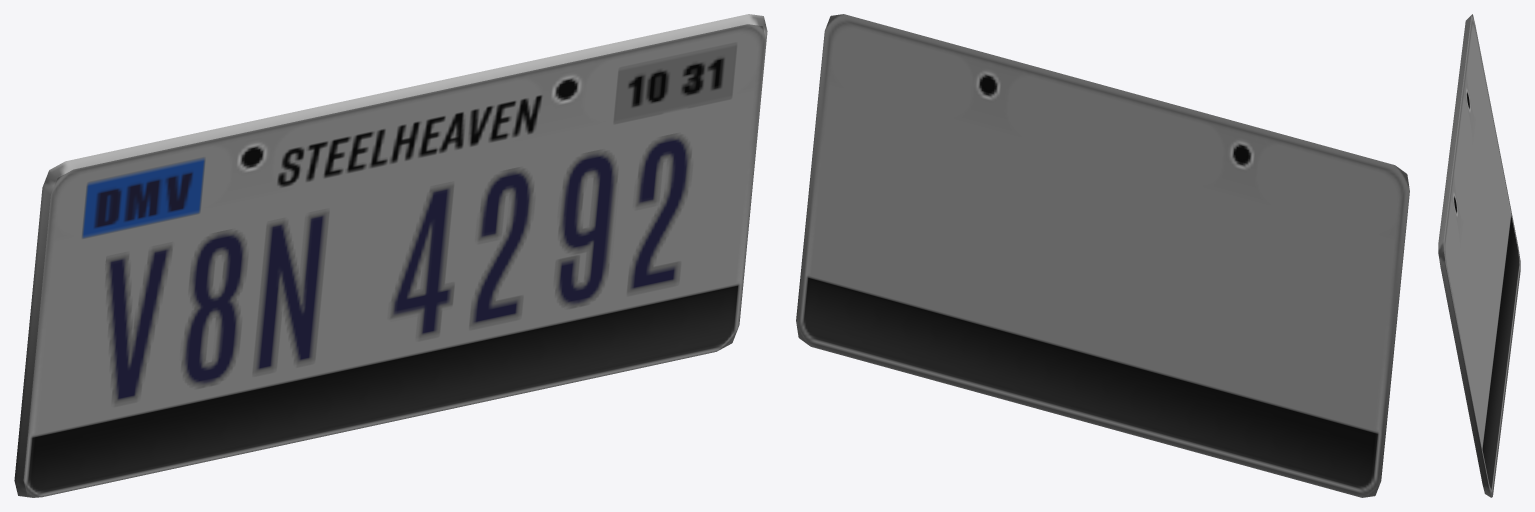
The model's file is shvan92inf_numberplate_rear_numberplates_misk_u_0.003_lev3.glb.
3 renders of one model, left to right at view 1: azimuth 30°, elevation 25°; view 2: azimuth 150°, elevation 25°; view 3: azimuth 270°, elevation 25°, orthographic. The views are drawn at different scales.
Visible parts, largest first — view 1: shvan92inf_numberplate_rear_numberplates_misk_u_0.003_lev3; view 2: shvan92inf_numberplate_rear_numberplates_misk_u_0.003_lev3; view 3: shvan92inf_numberplate_rear_numberplates_misk_u_0.003_lev3.
Boxes of the visible parts, x1,y1,x2,y2 form: shvan92inf_numberplate_rear_numberplates_misk_u_0.003_lev3: (14,14,767,497); shvan92inf_numberplate_rear_numberplates_misk_u_0.003_lev3: (796,14,1409,497); shvan92inf_numberplate_rear_numberplates_misk_u_0.003_lev3: (1438,14,1520,497).
Size of the model in its own units: 0.3008 by 0.1477 by 0.0435.
Materials: 1 (1 with a texture image).
